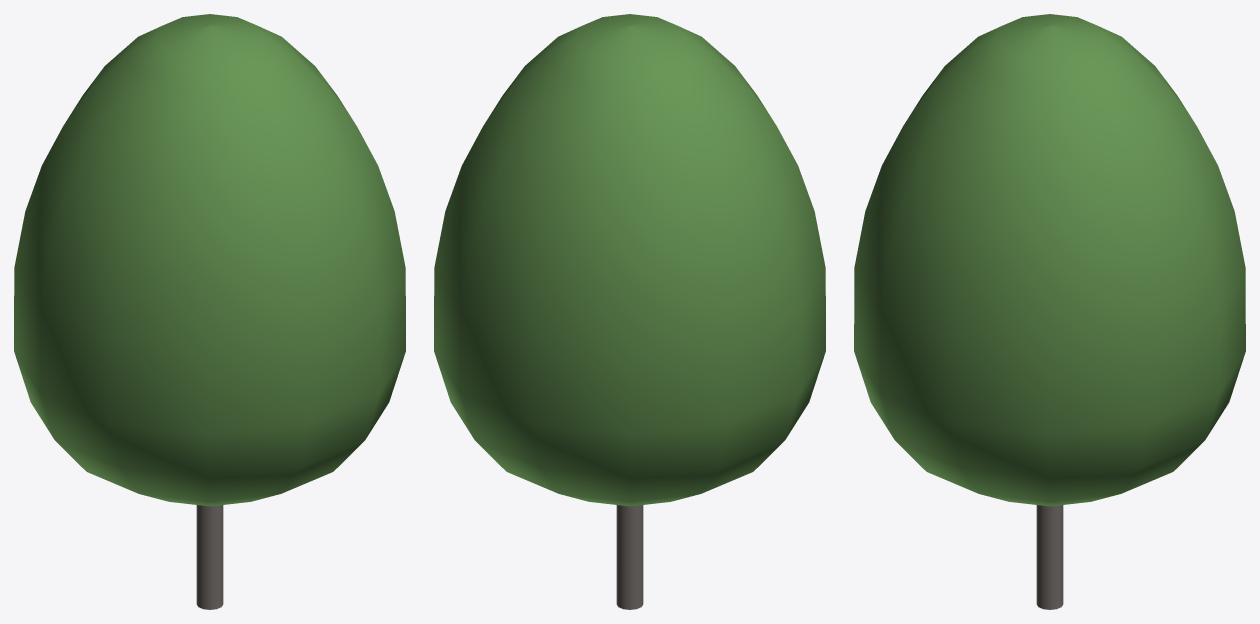
File: Common_Hawthorn_Analytical_0.obj
3 renders of one model, left to right at view 1: azimuth 30°, elevation 25°; view 2: azimuth 150°, elevation 25°; view 3: azimuth 270°, elevation 25°, orthographic.
Parts seen in each view (by area): view 1: AnalyticalCrown, AnalyticalTrunk; view 2: AnalyticalCrown, AnalyticalTrunk; view 3: AnalyticalCrown, AnalyticalTrunk.
Part boxes in pixels (bbox=[...]): AnalyticalCrown: bbox=[14, 14, 405, 506]; AnalyticalTrunk: bbox=[196, 505, 223, 609]; AnalyticalCrown: bbox=[434, 14, 825, 506]; AnalyticalTrunk: bbox=[616, 505, 643, 609]; AnalyticalCrown: bbox=[854, 14, 1245, 506]; AnalyticalTrunk: bbox=[1036, 505, 1063, 609].
Bounding box in the file's own units: 6.14 × 10 × 6.14.
